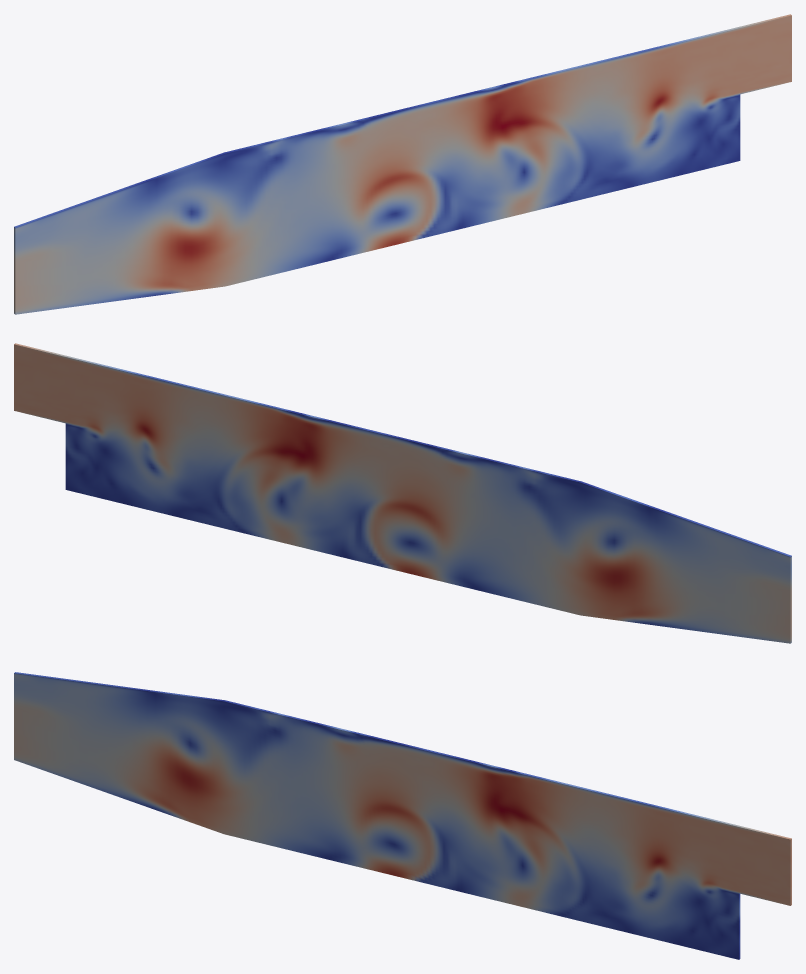
File: Shape_IndexedFaceSet.003reference_velocity.py_timestep4_time40.0_.fbx
The picture shows the model from 3 angles, top to bottom: view 1: azimuth 30°, elevation 25°; view 2: azimuth 150°, elevation 25°; view 3: azimuth 330°, elevation 25°; orthographic projection.
Parts seen in each view (by area): view 1: Shape_IndexedFaceSet.003; view 2: Shape_IndexedFaceSet.003; view 3: Shape_IndexedFaceSet.003.
Boxes of the visible parts, box(x1,y1,x2,y2) form: Shape_IndexedFaceSet.003: box(14, 14, 791, 314); Shape_IndexedFaceSet.003: box(14, 343, 791, 643); Shape_IndexedFaceSet.003: box(14, 672, 791, 959).
Bounding box in the file's own units: 31.06 × 5.08 × 0.1.
